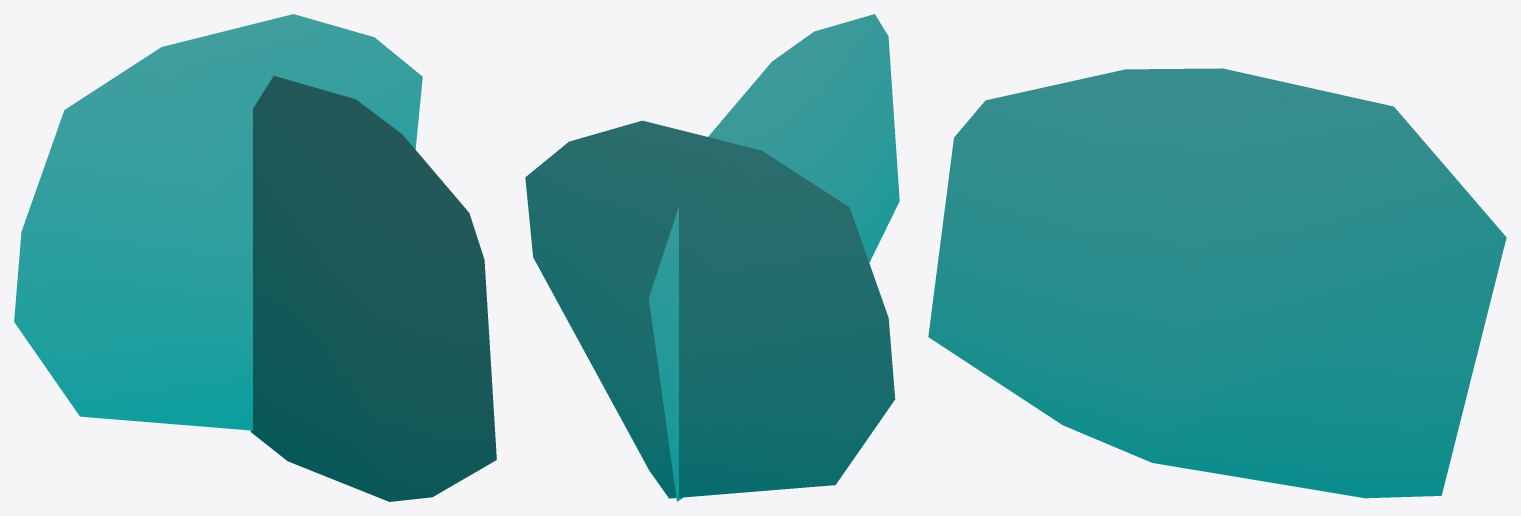
Rendered from Downy_Willow_wknlfiuqx_Mid_wknlfiuqx_VarG_LOD3.fbx.
3 renders of one model, left to right at view 1: azimuth 30°, elevation 25°; view 2: azimuth 150°, elevation 25°; view 3: azimuth 270°, elevation 25°, orthographic. The views are drawn at different scales.
Visible parts, largest first — view 1: _s6zj_VarG_LOD6; view 2: _s6zj_VarG_LOD6; view 3: _s6zj_VarG_LOD6.
Boxes of the visible parts, x1,y1,x2,y2 form: _s6zj_VarG_LOD6: (14, 14, 496, 501); _s6zj_VarG_LOD6: (525, 14, 899, 501); _s6zj_VarG_LOD6: (928, 68, 1506, 498).
Bounding box in the file's own units: 163 × 157 × 191.
